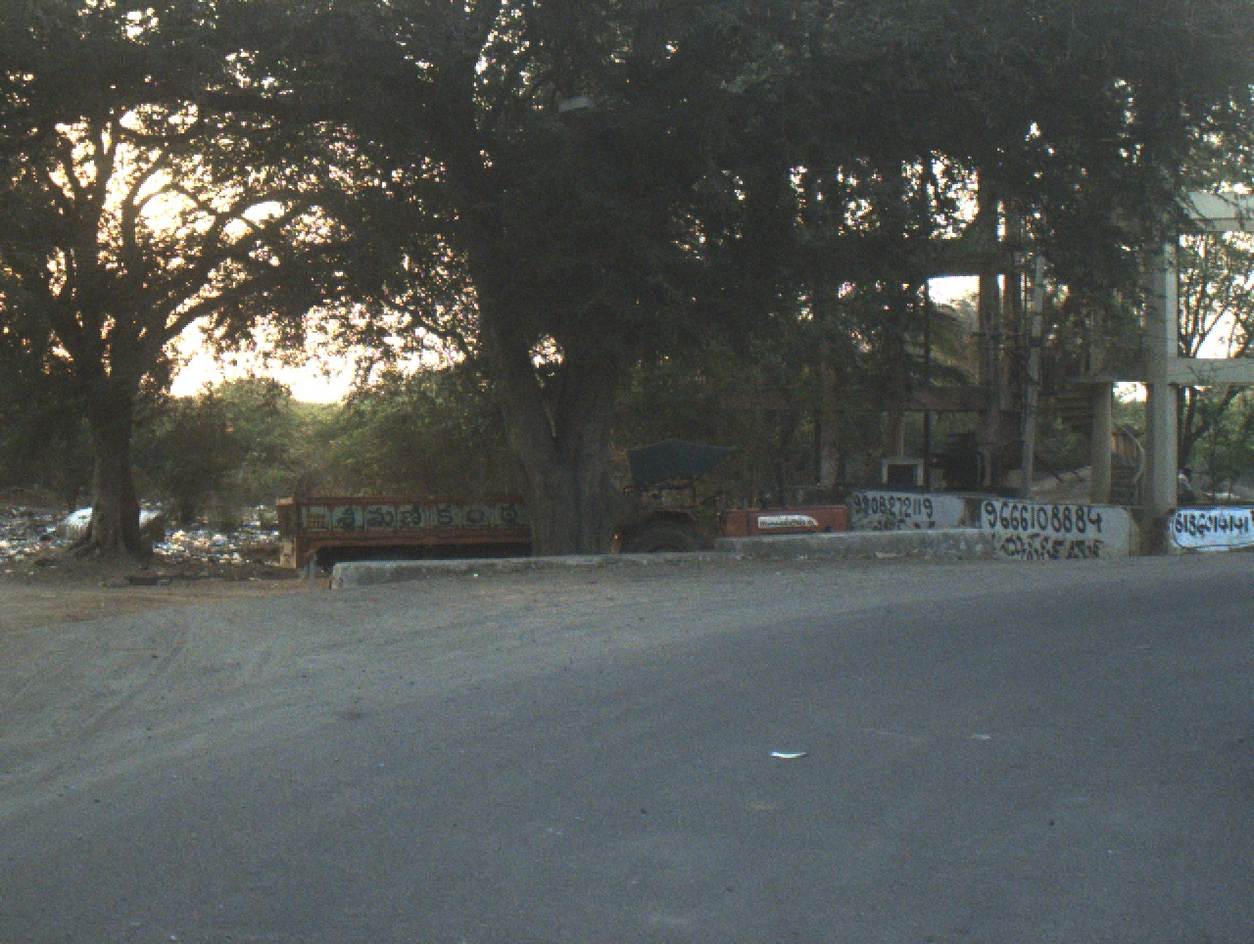person: (1178, 460, 1199, 504)
vehicle fallback: (273, 435, 854, 574)
